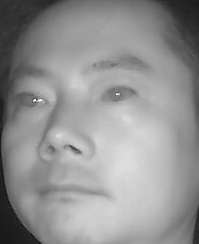eye: (97, 84, 142, 108), (13, 89, 52, 112)
mouth: (36, 178, 108, 212)
